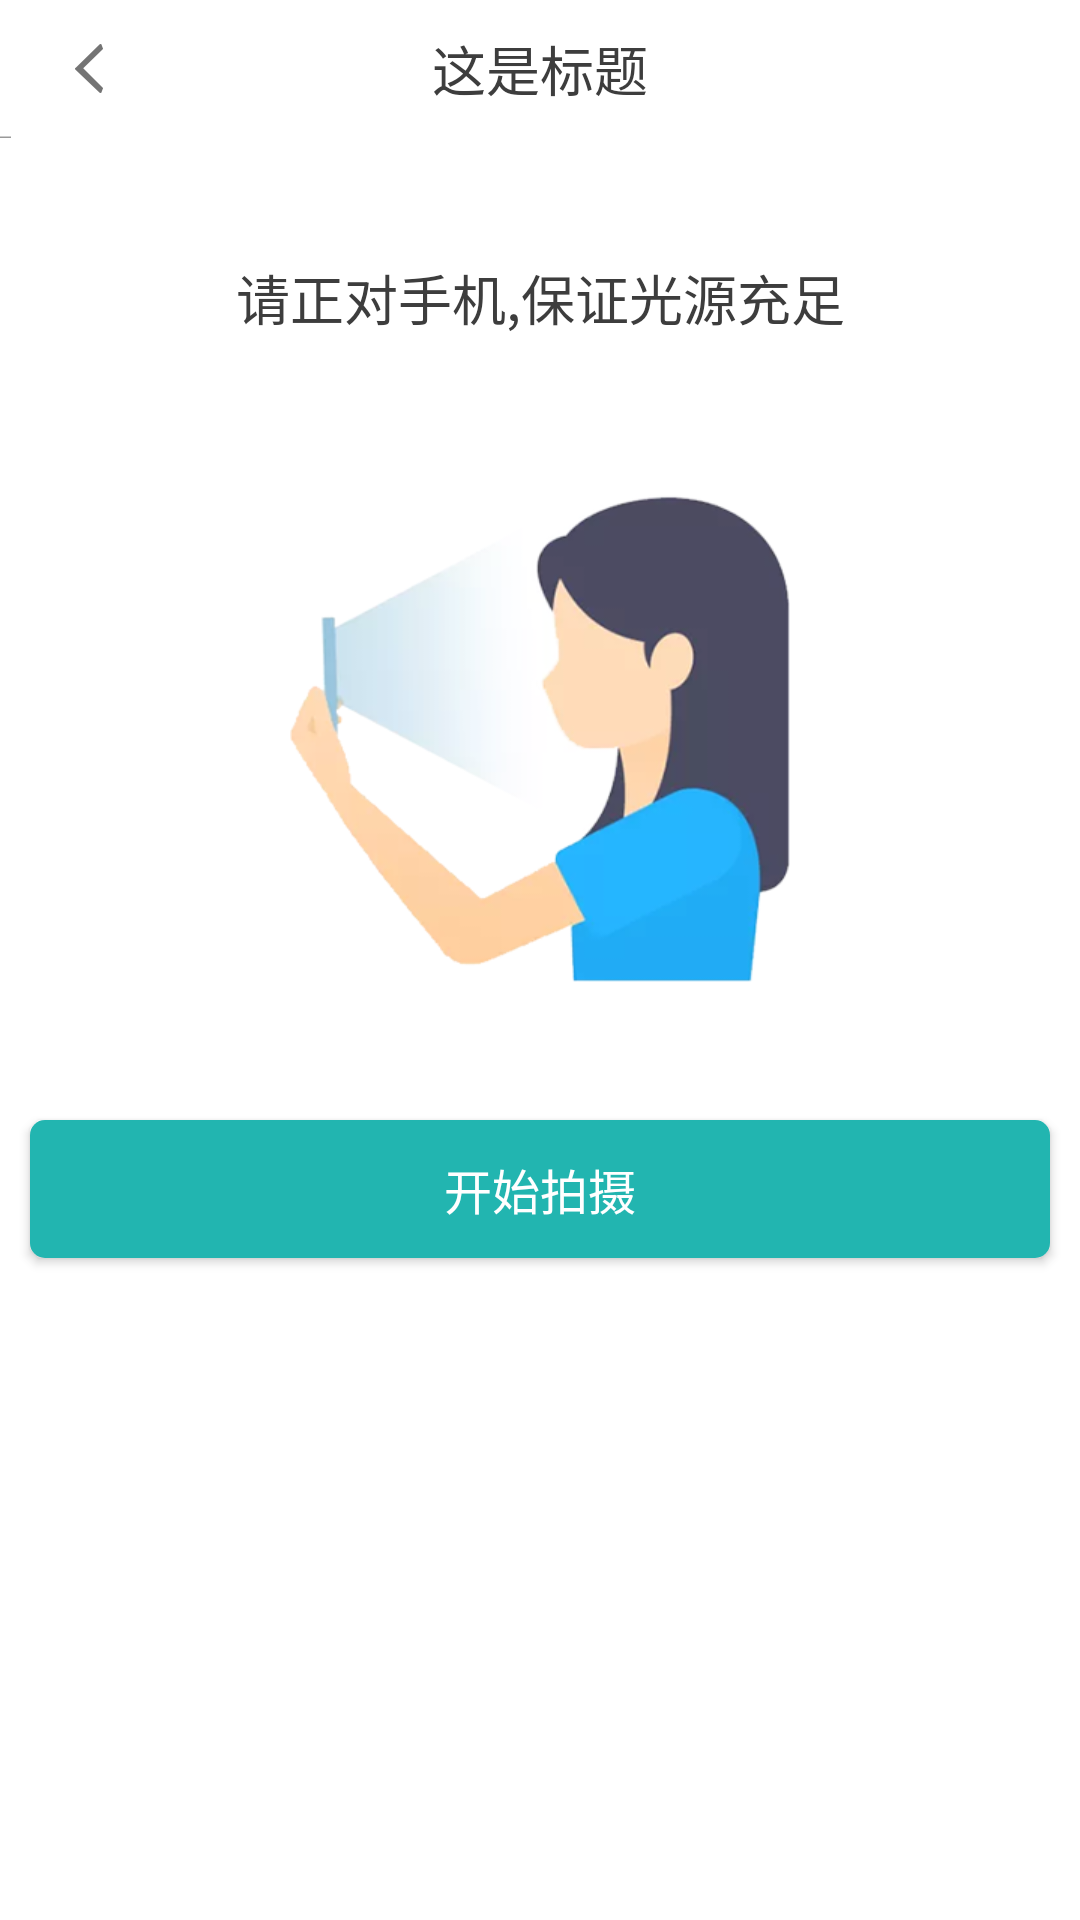

Point at icon controls on the screen. Image size 1080*1920, points as [x,y].
arrows back: [89,68]
